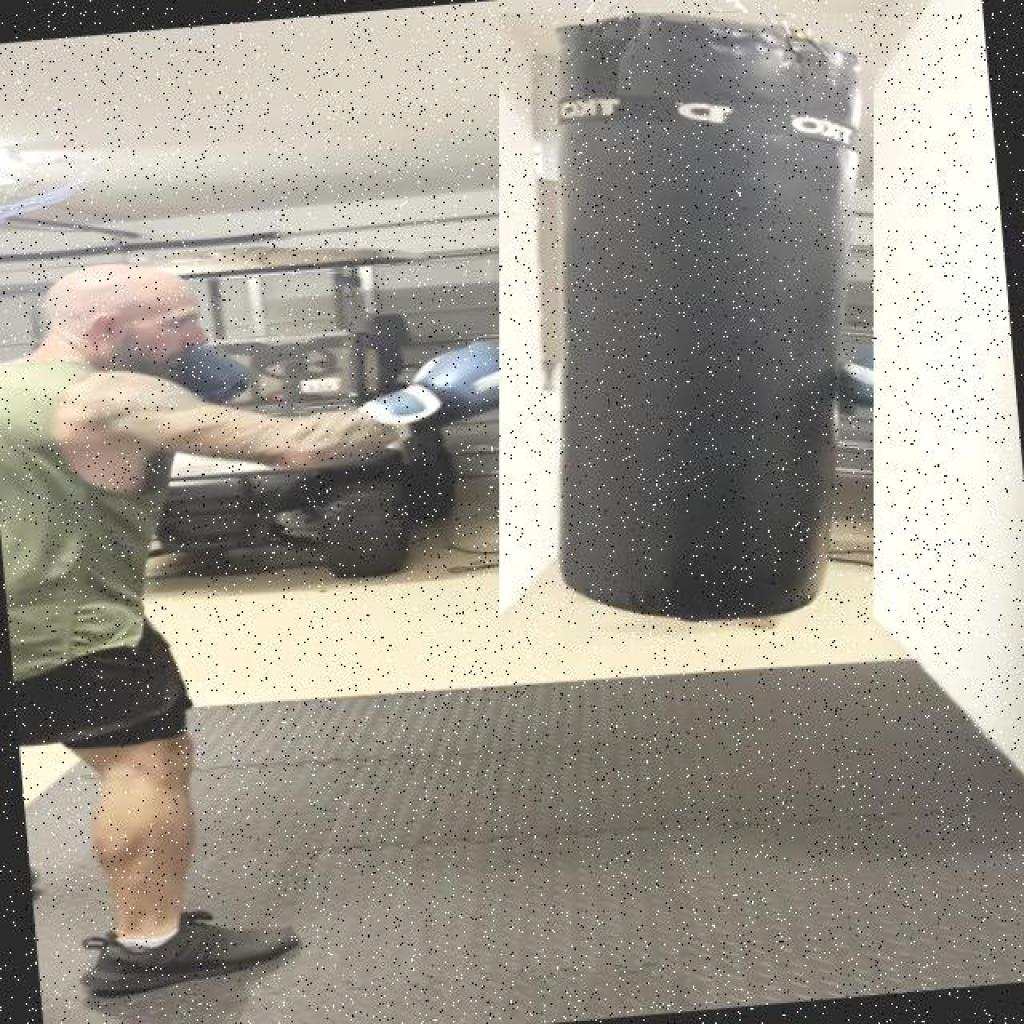bag: (499, 13, 874, 647)
jab: (2, 134, 640, 560)
